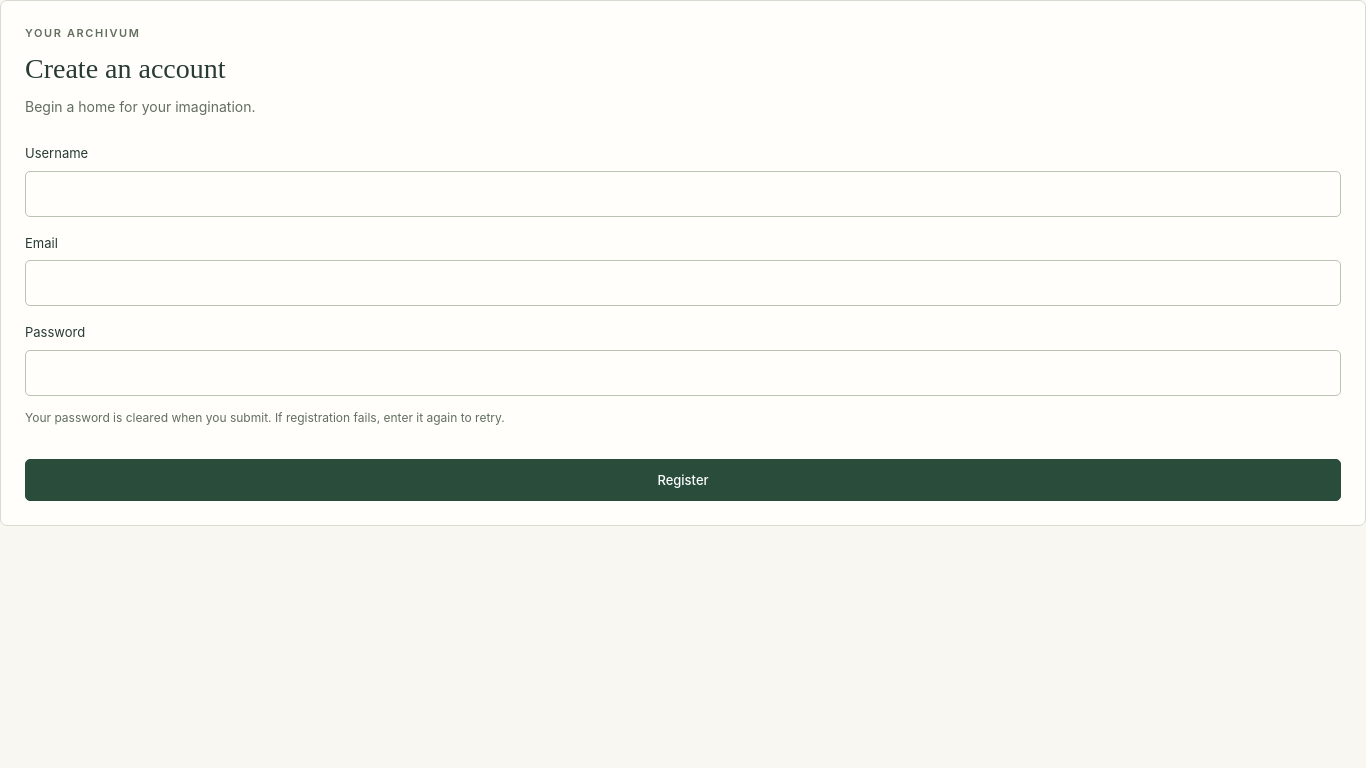
Test: handles HTTP 409 (Username already exists), preserving only non-secret fields and allowing retry
Type "  Archivist  " into the field labelled "Username" at point(683, 194), box [25,171,1341,217]
Type "archivist@example.com" into the field labelled "Email" at point(683, 283), box [25,260,1341,306]
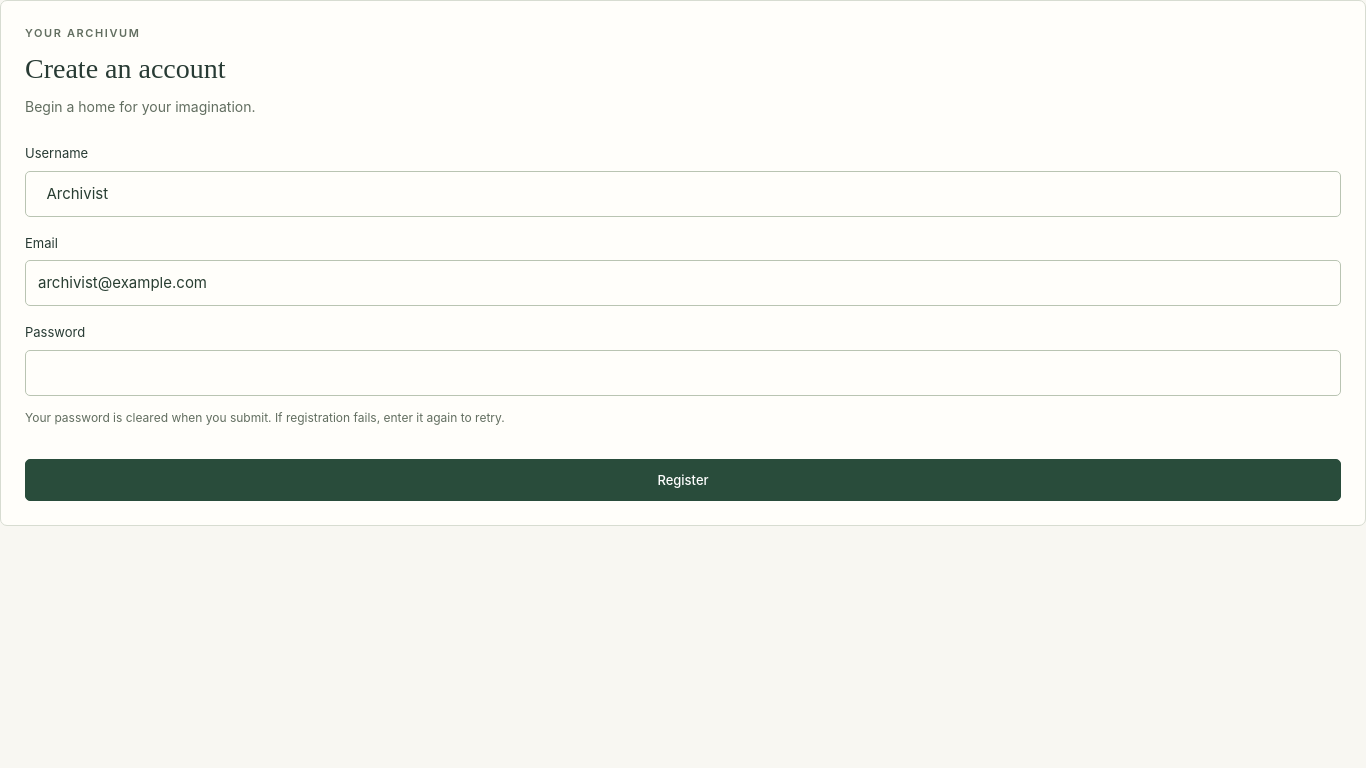
Type "test-only-password" into the password field labelled "Password" at point(683, 373), box [25,350,1341,396]
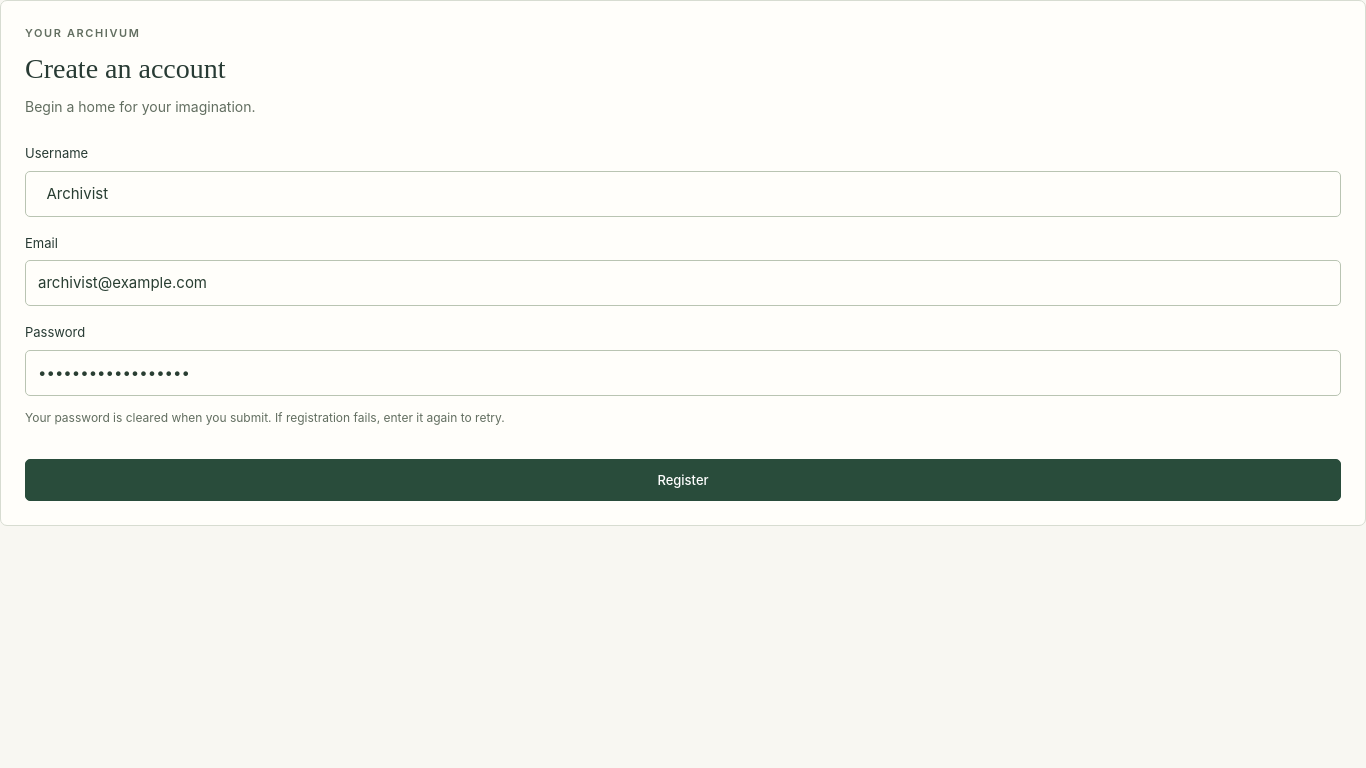
Submit the form, box [25,143,1341,501]
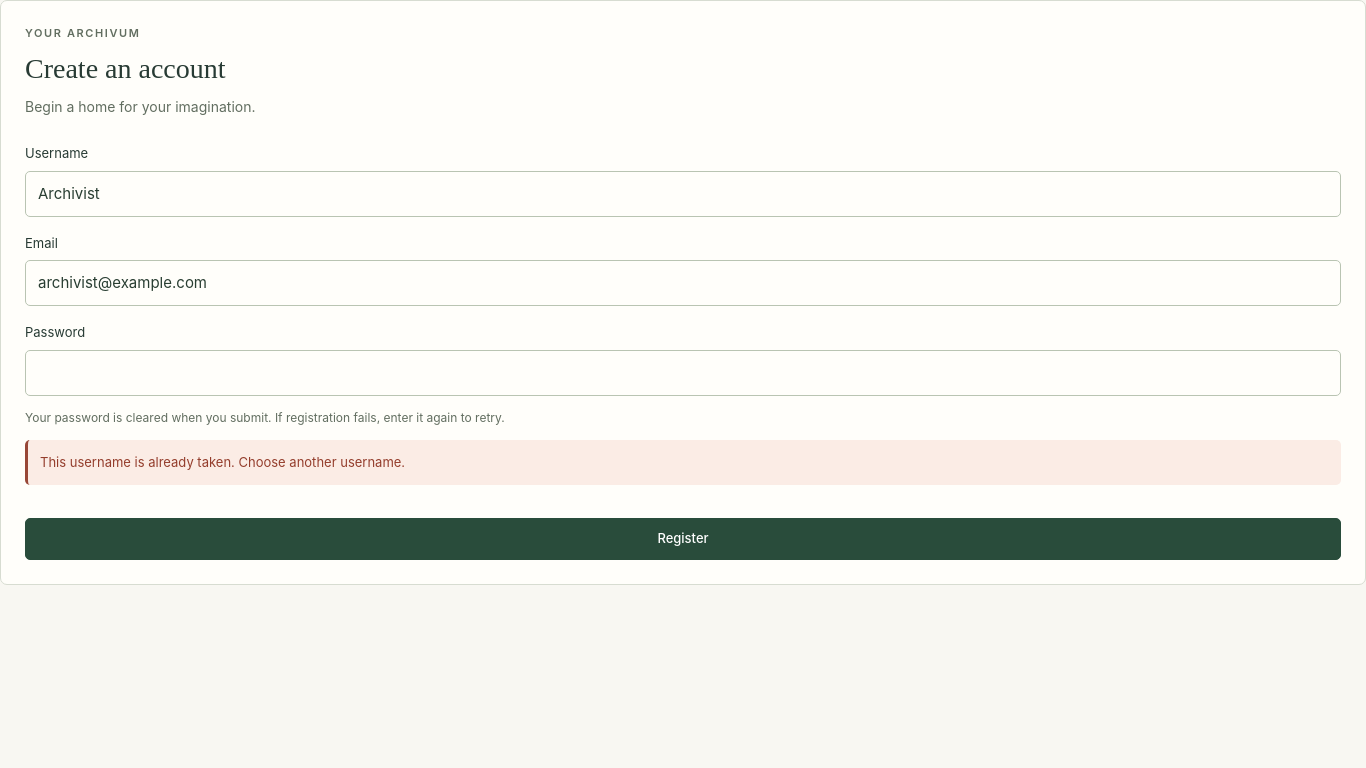
Check: the message "This username is already taken. Choose another username." is shown, box [25,440,1341,485]
Submit the form, box [25,143,1341,560]
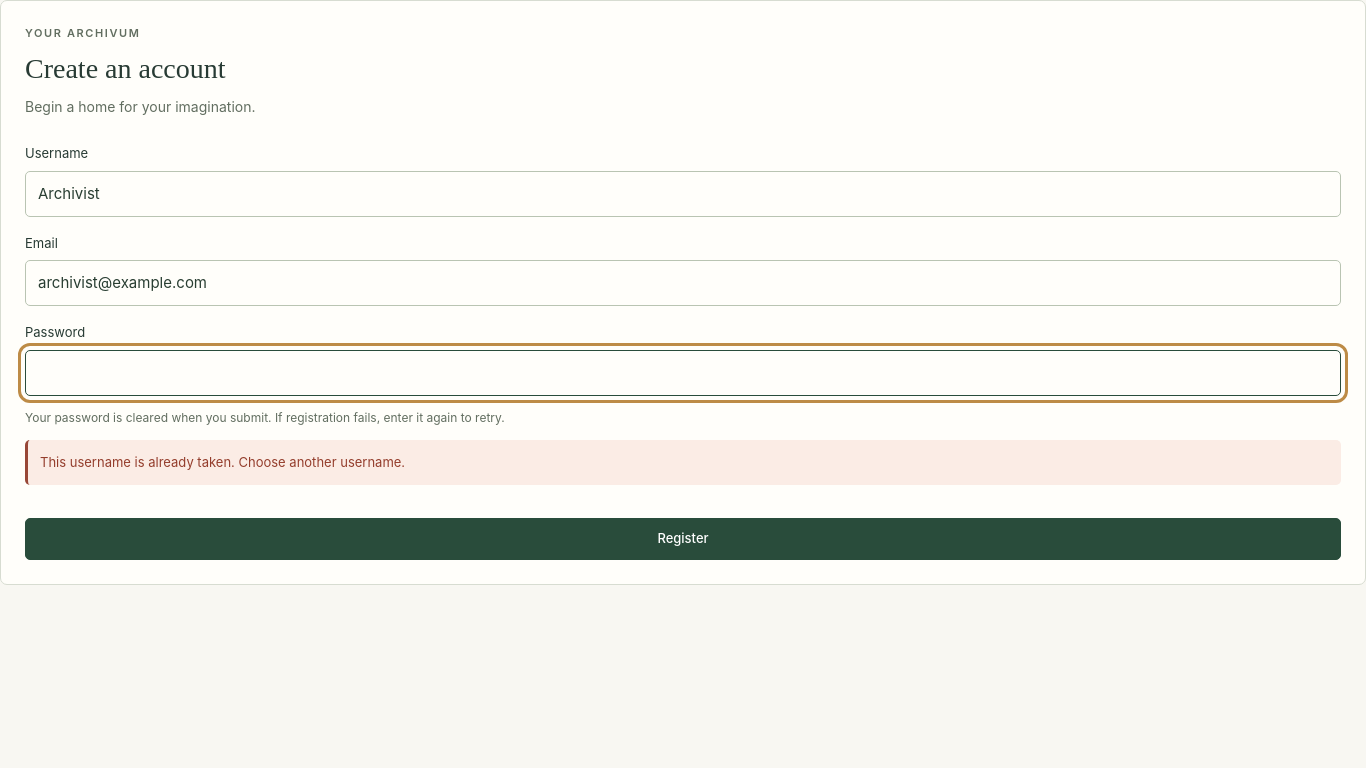
Type "retry-password" into the password field labelled "Password" at point(683, 373), box [25,350,1341,396]
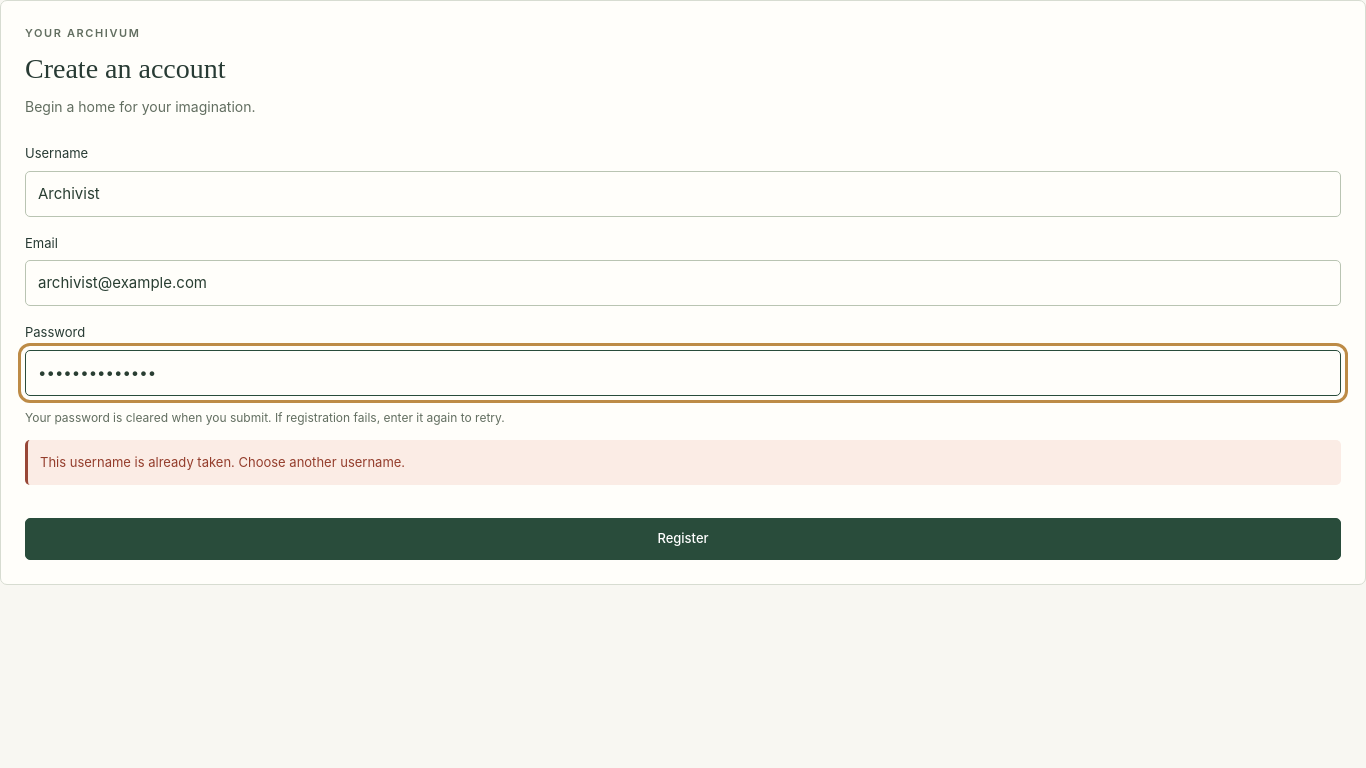
Submit the form, box [25,143,1341,560]
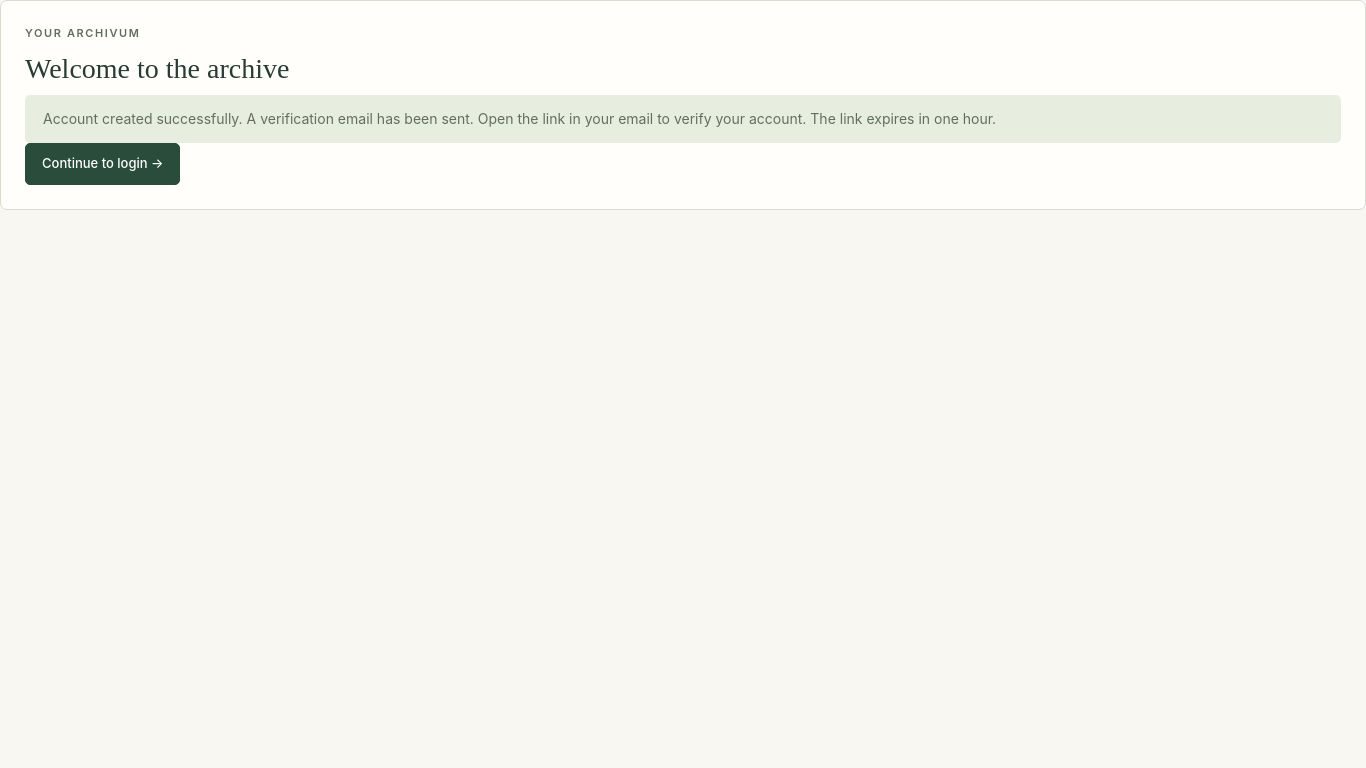
Check: the text "Account created successfully." is shown, box [43,110,996,127]
